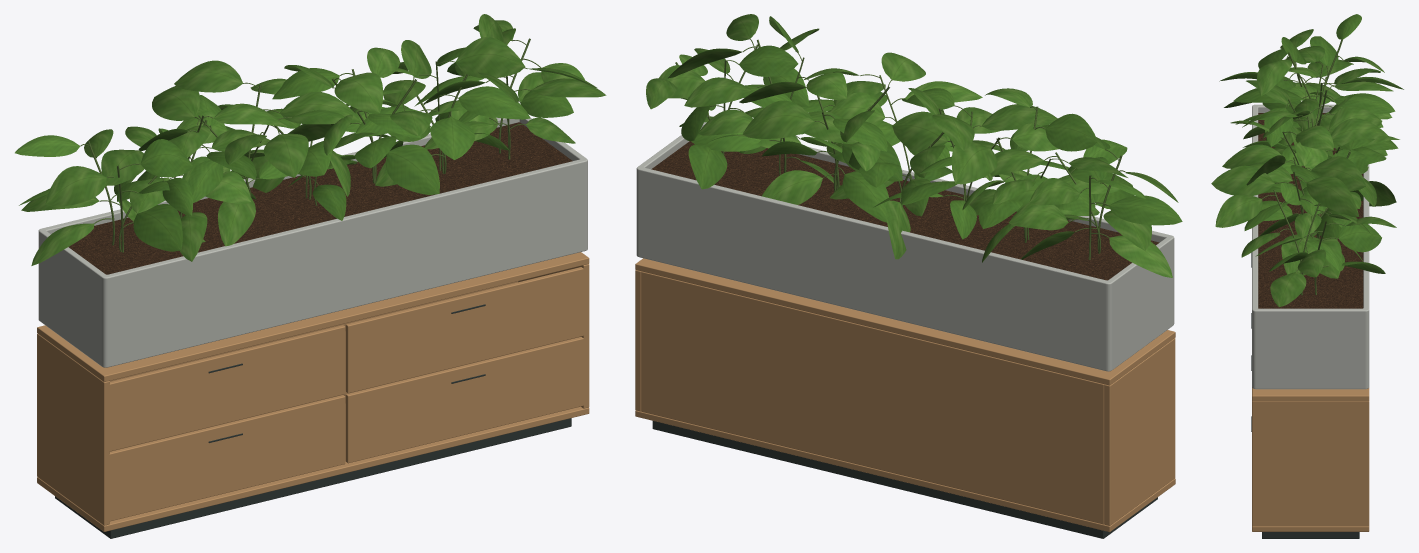
The model's file is botanicalDivider-11.glb.
3 renders of one model, left to right at view 1: azimuth 30°, elevation 25°; view 2: azimuth 150°, elevation 25°; view 3: azimuth 270°, elevation 25°, orthographic. The views are drawn at different scales.
Parts seen in each view (by area): view 1: StoragePlanter_Drawer (×4), Planter_pothos_leaves, Planter_oiled_oak, Planter_loose_soil, StoragePlanter_Side (×2), StoragePlanter_Top, StoragePlanter_Bottom, StoragePlanter_Plinth, Planter_pothos_stems, StoragePlanter_Back; view 2: StoragePlanter_Back, Planter_pothos_leaves, Planter_oiled_oak, Planter_loose_soil, StoragePlanter_Side (×2), StoragePlanter_Top, StoragePlanter_Plinth, StoragePlanter_Bottom, Planter_pothos_stems; view 3: Planter_pothos_leaves, StoragePlanter_Side, Planter_oiled_oak, Planter_loose_soil, Planter_pothos_stems, StoragePlanter_Top, StoragePlanter_Bottom, StoragePlanter_Plinth.
Part boxes in pixels (left/top/right/bottom): StoragePlanter_Drawer (×4): left=109, top=267, right=584, bottom=521; Planter_pothos_leaves: left=15, top=14, right=606, bottom=265; Planter_oiled_oak: left=38, top=117, right=587, bottom=367; Planter_loose_soil: left=68, top=122, right=572, bottom=274; StoragePlanter_Side (×2): left=37, top=264, right=589, bottom=525; StoragePlanter_Top: left=37, top=252, right=589, bottom=382; StoragePlanter_Bottom: left=37, top=403, right=589, bottom=531; StoragePlanter_Plinth: left=55, top=418, right=571, bottom=538; Planter_pothos_stems: left=80, top=38, right=541, bottom=252; StoragePlanter_Back: left=109, top=281, right=518, bottom=402; StoragePlanter_Back: left=641, top=271, right=1104, bottom=524; Planter_pothos_leaves: left=646, top=14, right=1182, bottom=277; Planter_oiled_oak: left=636, top=122, right=1174, bottom=371; Planter_loose_soil: left=651, top=141, right=1159, bottom=280; StoragePlanter_Side (×2): left=635, top=270, right=1175, bottom=525; StoragePlanter_Top: left=635, top=258, right=1175, bottom=385; StoragePlanter_Plinth: left=652, top=421, right=1157, bottom=538; StoragePlanter_Bottom: left=635, top=410, right=1175, bottom=532; Planter_pothos_stems: left=675, top=39, right=1125, bottom=259; Planter_pothos_leaves: left=1211, top=14, right=1403, bottom=307; StoragePlanter_Side: left=1252, top=401, right=1369, bottom=526; Planter_oiled_oak: left=1252, top=104, right=1369, bottom=389; Planter_loose_soil: left=1258, top=113, right=1363, bottom=308; Planter_pothos_stems: left=1262, top=39, right=1350, bottom=295; StoragePlanter_Top: left=1252, top=387, right=1369, bottom=401; StoragePlanter_Bottom: left=1252, top=526, right=1369, bottom=531; StoragePlanter_Plinth: left=1262, top=532, right=1359, bottom=538.
Bounding box in the file's own units: 2.26 × 1.58 × 0.7924.
9 materials, 2 textured.
